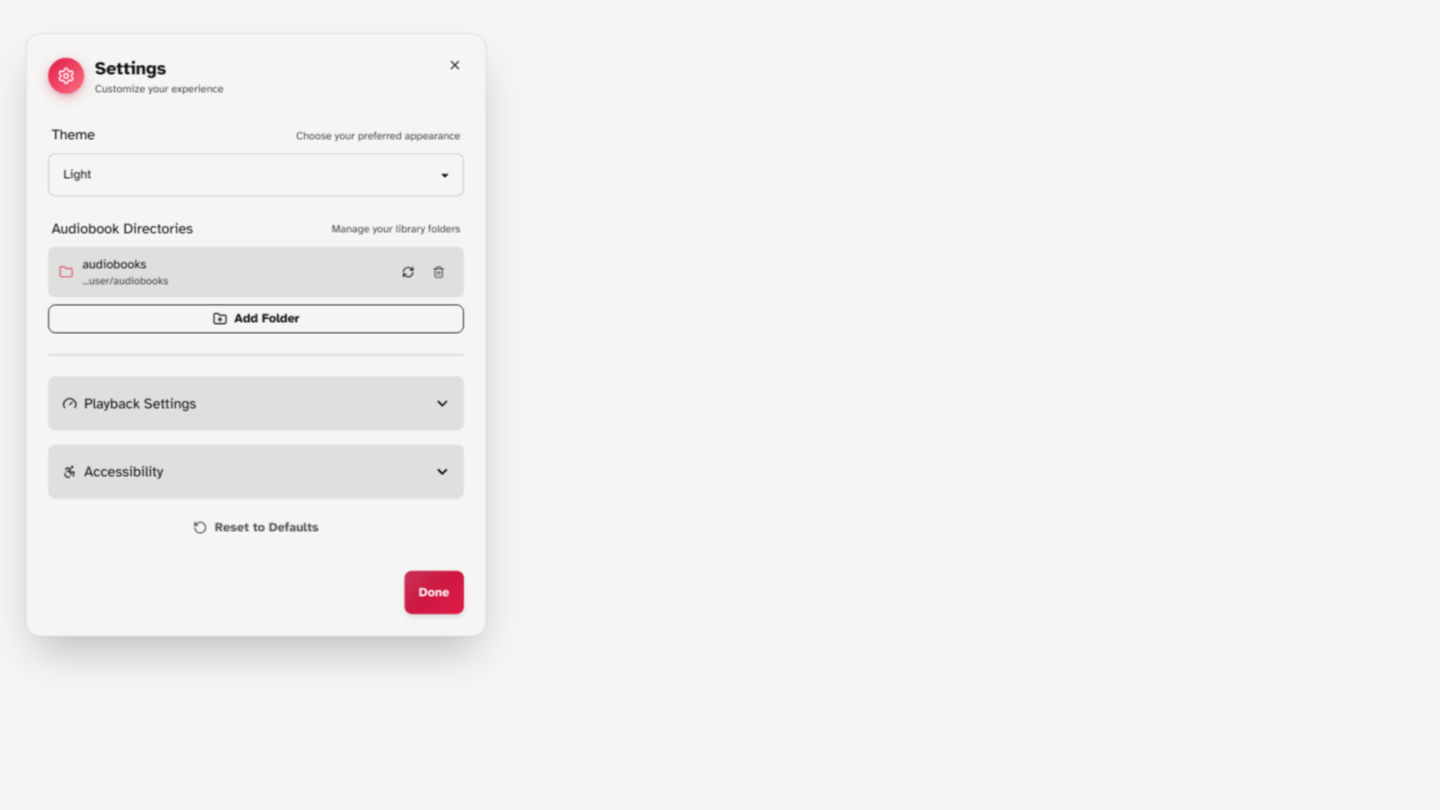
Test: SettingsModal - Directory Management › confirmation dialog › closes dialog when cancel is clicked
The width and height of the screenshot is (1440, 810).
Note: Click remove button
Click the button named "Remove directory".
click(439, 272)  # box [424,261,453,283]
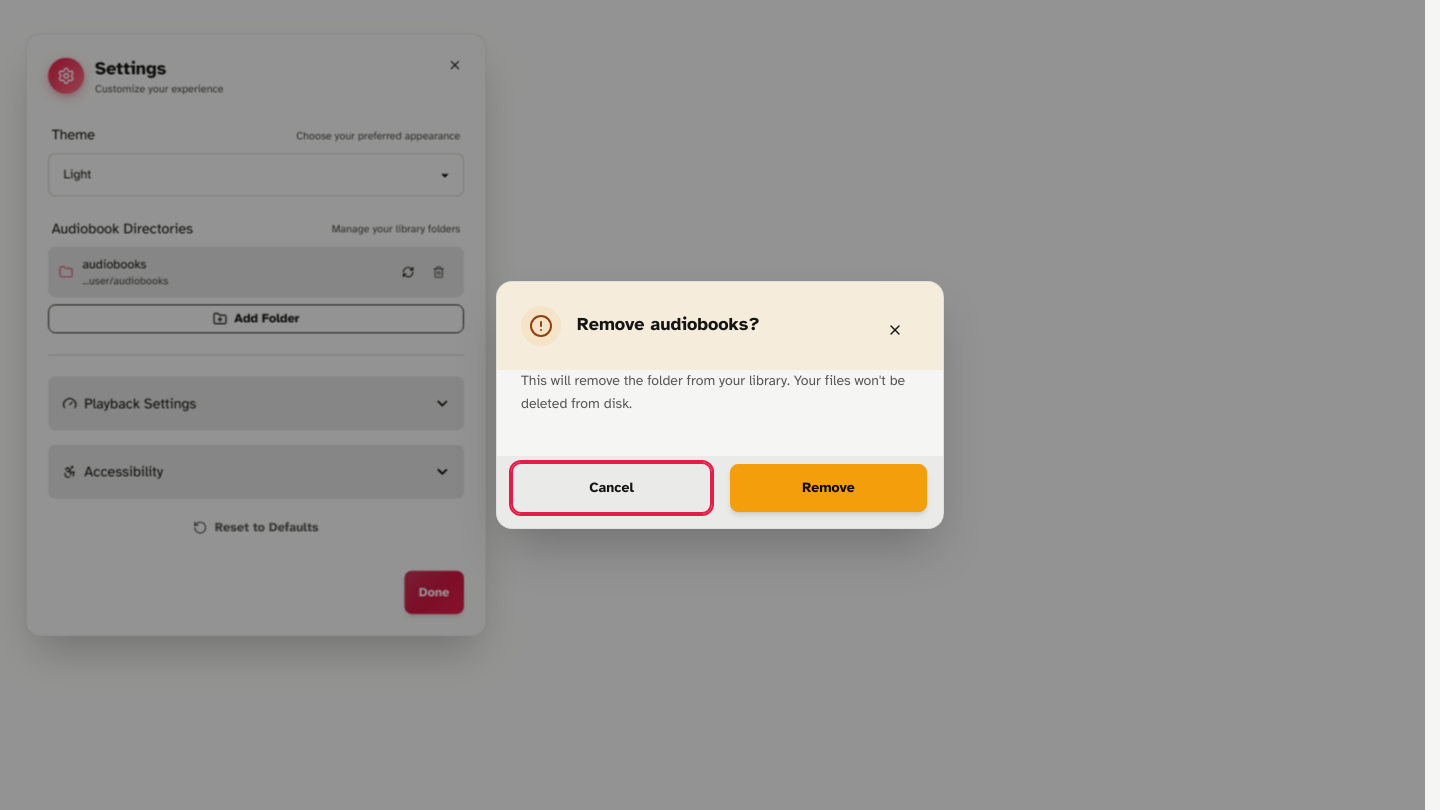
Expected: the heading "Remove audiobooks?" is shown, [577,313,760,335]
Click the button "Cancel".
click(612, 488)  # box [513,464,710,512]
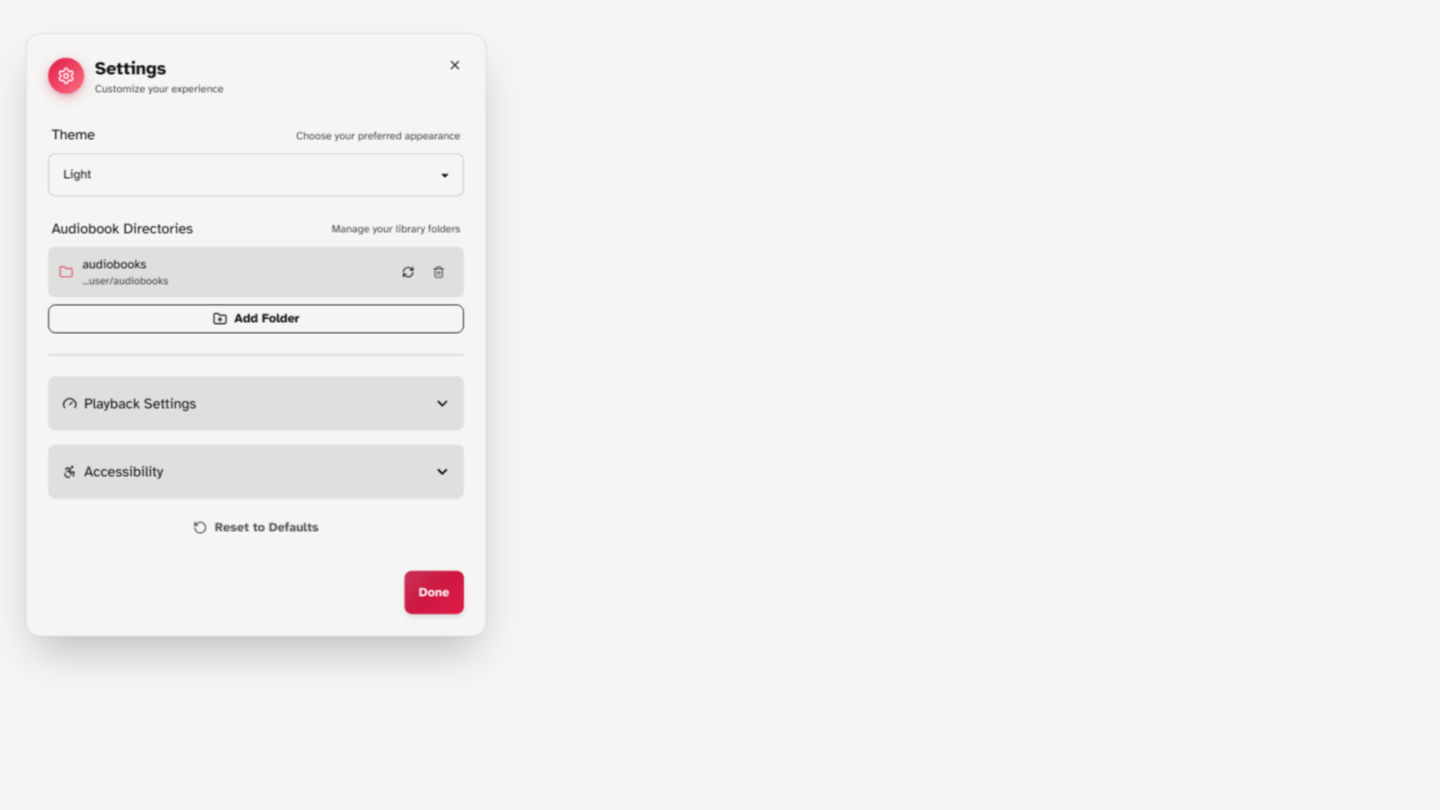
Expected: the heading "Remove audiobooks?" is gone
